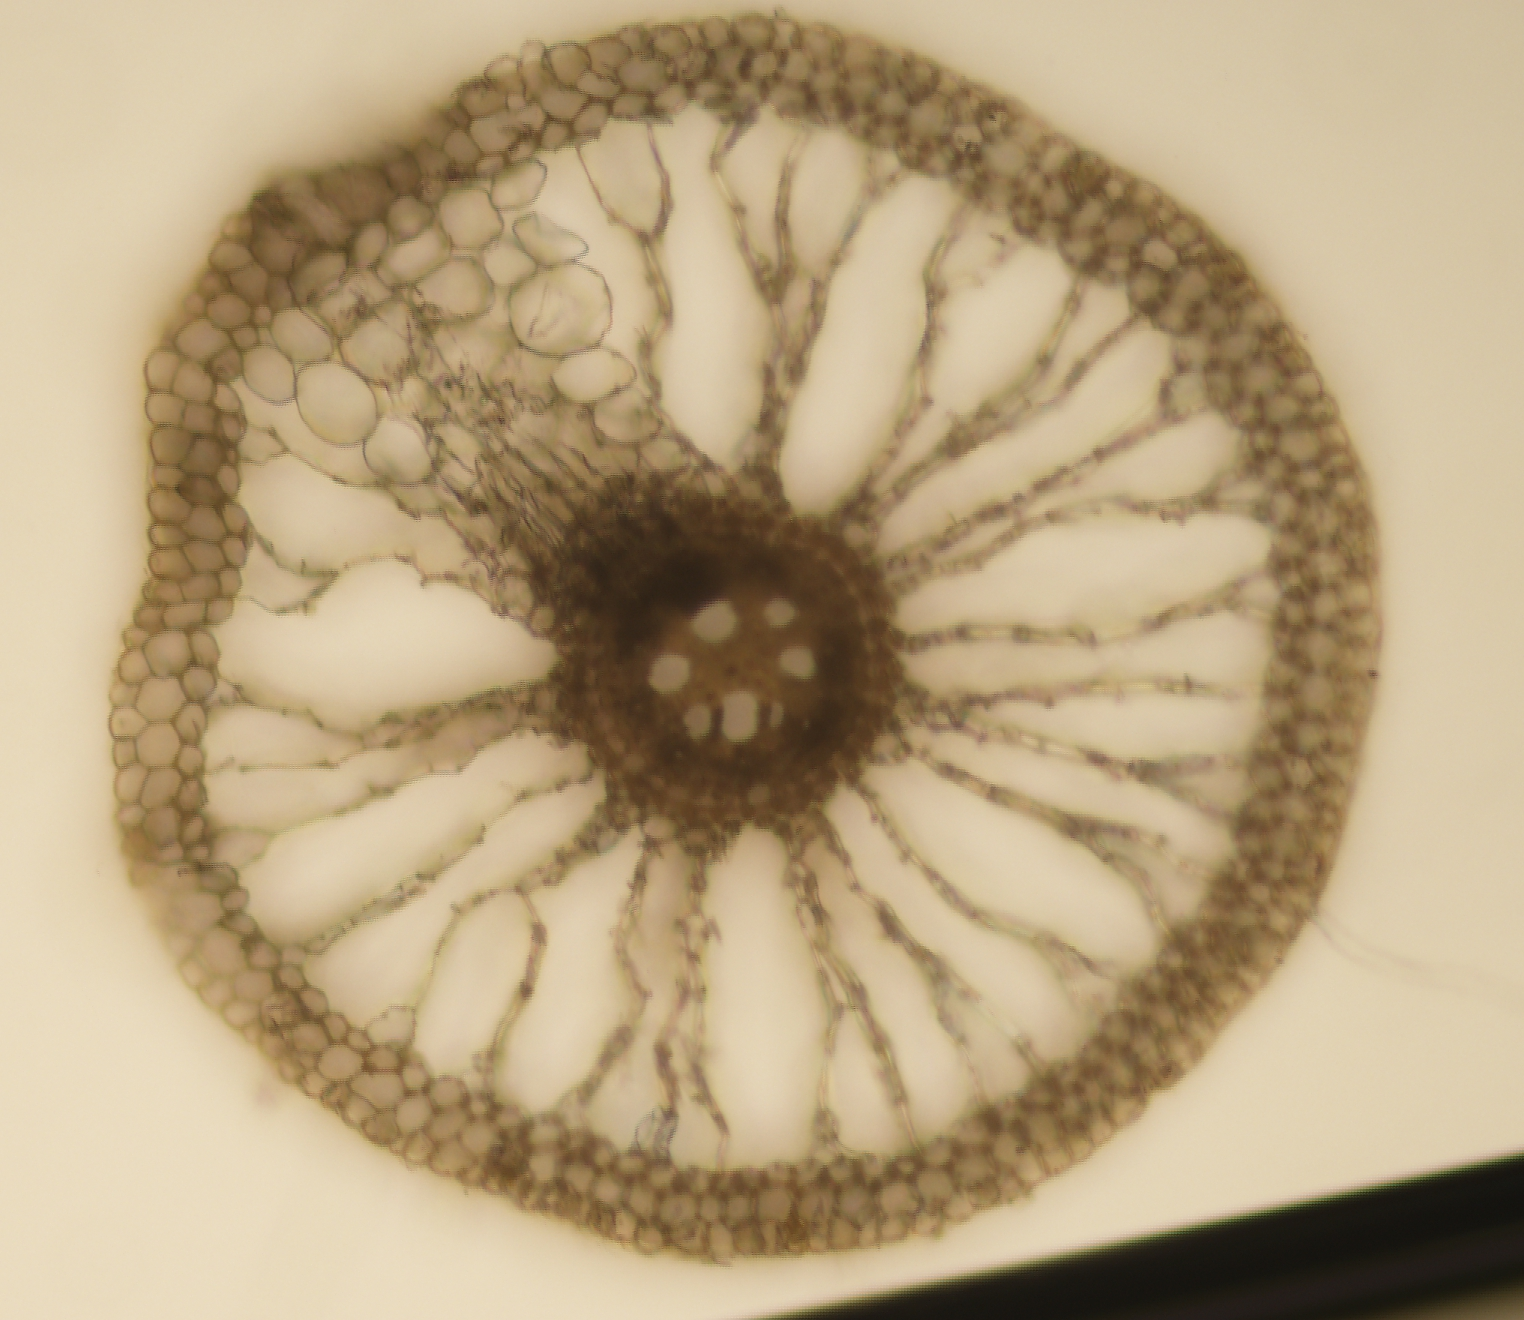lm: (722, 690, 759, 744), (691, 598, 737, 641), (648, 653, 689, 694), (762, 596, 797, 628), (682, 703, 711, 741), (768, 700, 785, 731)
